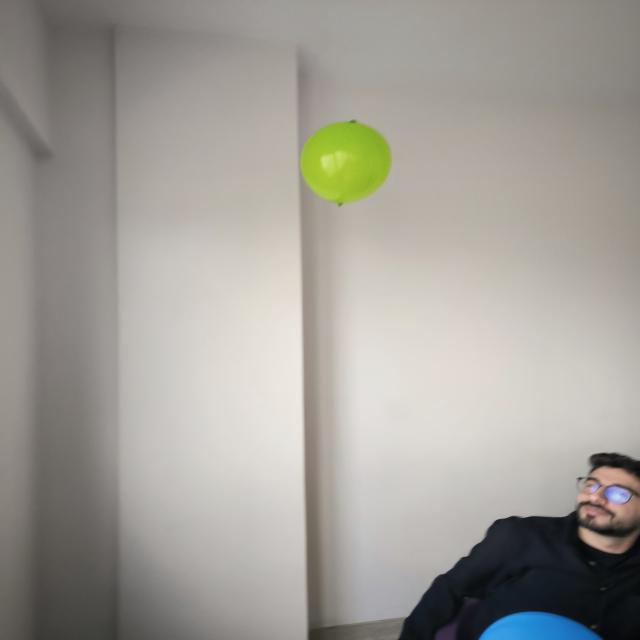balloon: (300, 121, 391, 206)
